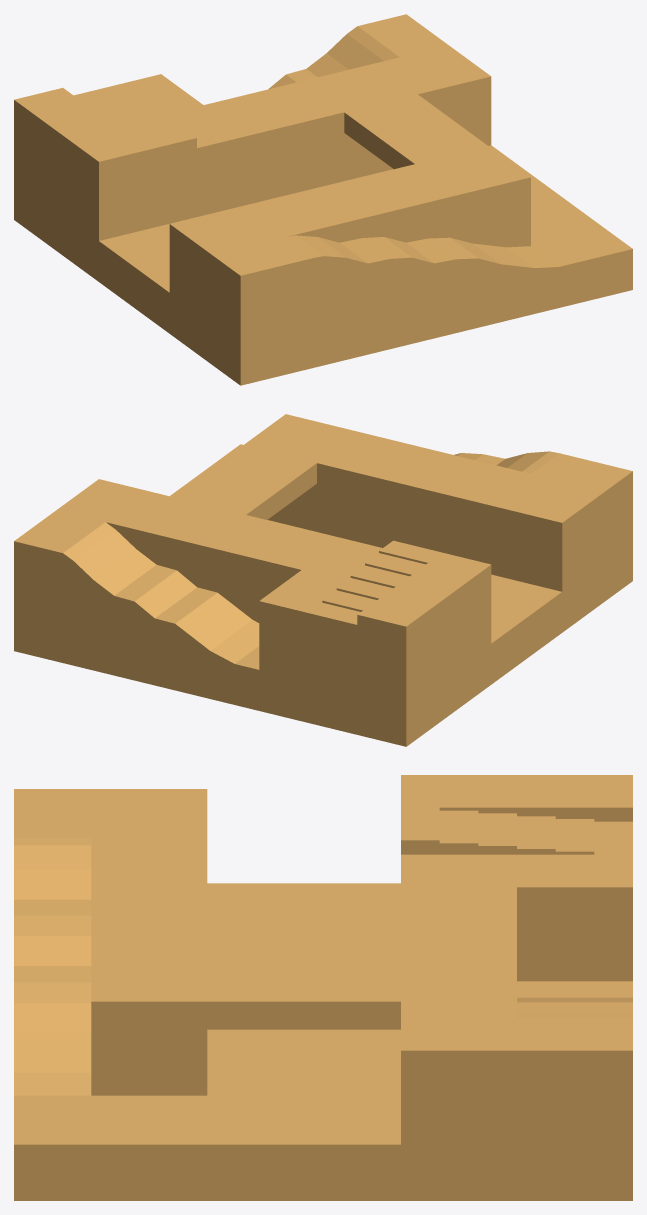
The picture shows the model from 3 angles, top to bottom: view 1: azimuth 30°, elevation 25°; view 2: azimuth 150°, elevation 25°; view 3: azimuth 270°, elevation 25°; orthographic projection. The views are drawn at different scales.
Parts seen in each view (by area): view 1: Cube; view 2: Cube; view 3: Cube.
Boxes of the visible parts, x1=… form: Cube: x1=14, y1=14, x2=632, y2=385; Cube: x1=14, y1=414, x2=632, y2=746; Cube: x1=14, y1=775, x2=632, y2=1200.
Bounding box in the file's own units: 20 × 5.85 × 20.
